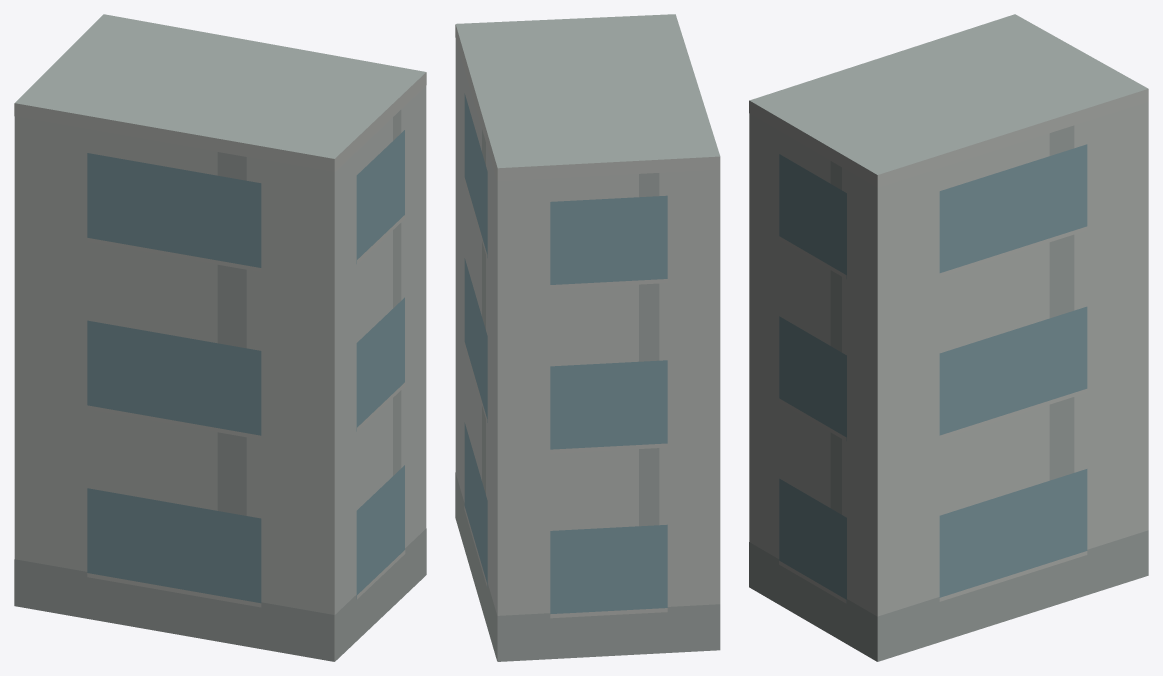
The model's file is survey-upis-32571807.glb.
3 views of the same model, side by side, from view 1: azimuth 30°, elevation 25°; view 2: azimuth 150°, elevation 25°; view 3: azimuth 270°, elevation 25° (orthographic). The views are drawn at different scales.
Parts seen in each view (by area): view 1: survey-upis-32571807.tmp; view 2: survey-upis-32571807.tmp; view 3: survey-upis-32571807.tmp.
Part boxes in pixels (x1,y1,x2,y2): survey-upis-32571807.tmp: (14,14,426,661); survey-upis-32571807.tmp: (455,14,720,661); survey-upis-32571807.tmp: (749,14,1148,661).
Size of the model in its own units: 6.5 by 9.15 by 6.81.
